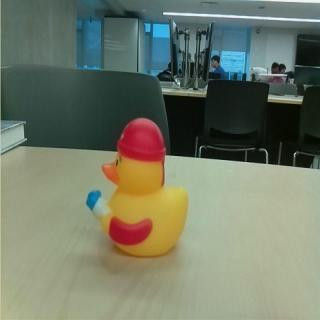duck_specialty: (86, 115, 191, 259)
